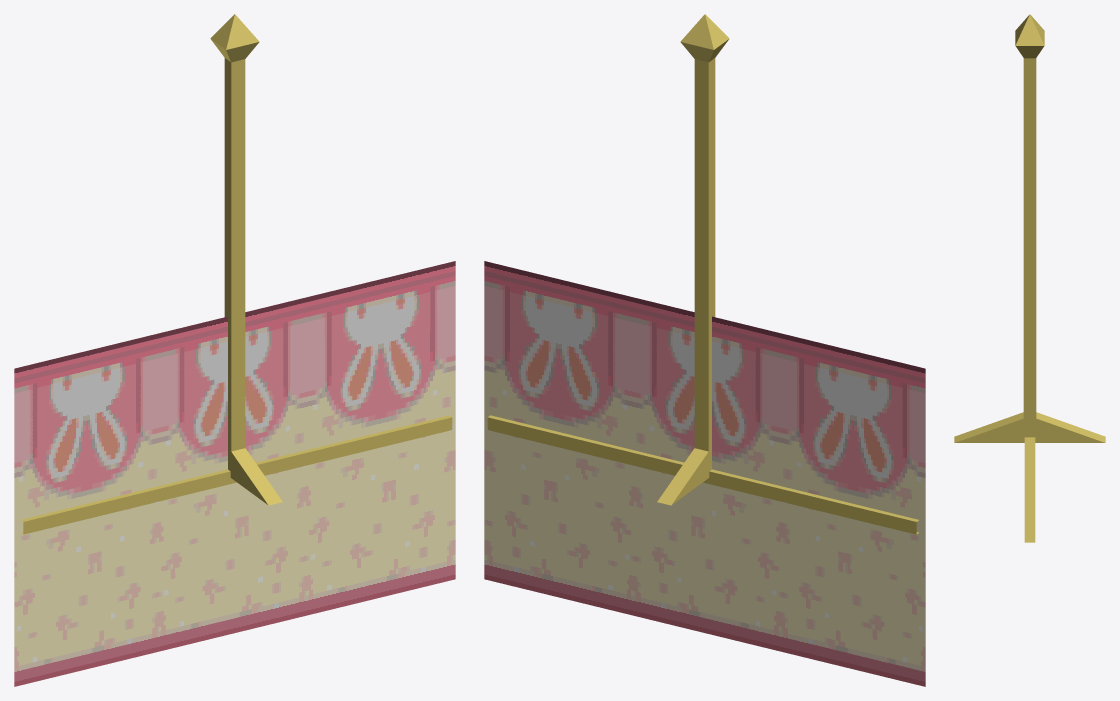
3 views of the same model, side by side, from view 1: azimuth 30°, elevation 25°; view 2: azimuth 150°, elevation 25°; view 3: azimuth 270°, elevation 25° (orthographic). The views are drawn at different scales.
Visible parts, largest first — view 1: 4493wall_r; view 2: 4493wall_r; view 3: 4493wall_r.
Boxes of the visible parts, left/top/right/bottom form: 4493wall_r: left=14, top=14, right=455, bottom=686; 4493wall_r: left=484, top=14, right=925, bottom=686; 4493wall_r: left=954, top=14, right=1105, bottom=542.
Size of the model in its own units: 1.83 by 2.45 by 0.5869.
2 materials, 1 textured.
